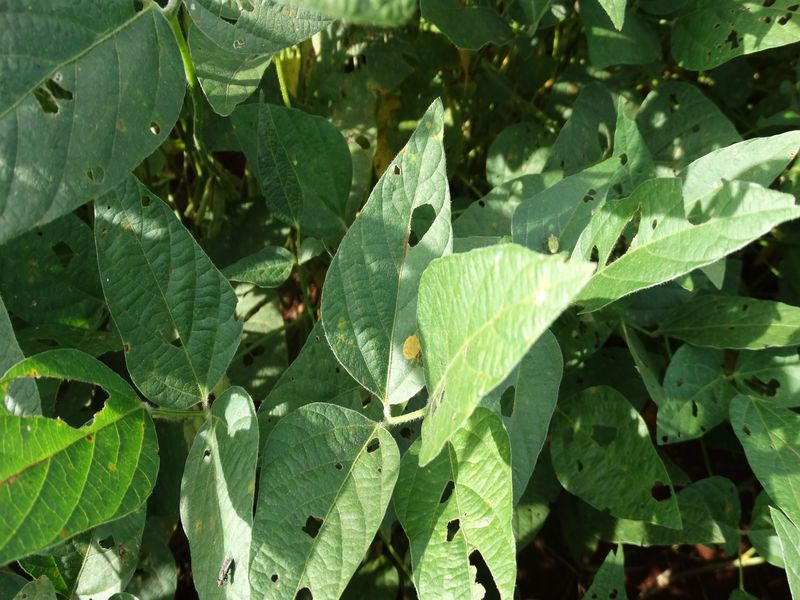Euschistus_heros_ninfa: (395, 329, 432, 370), (539, 228, 567, 258)
